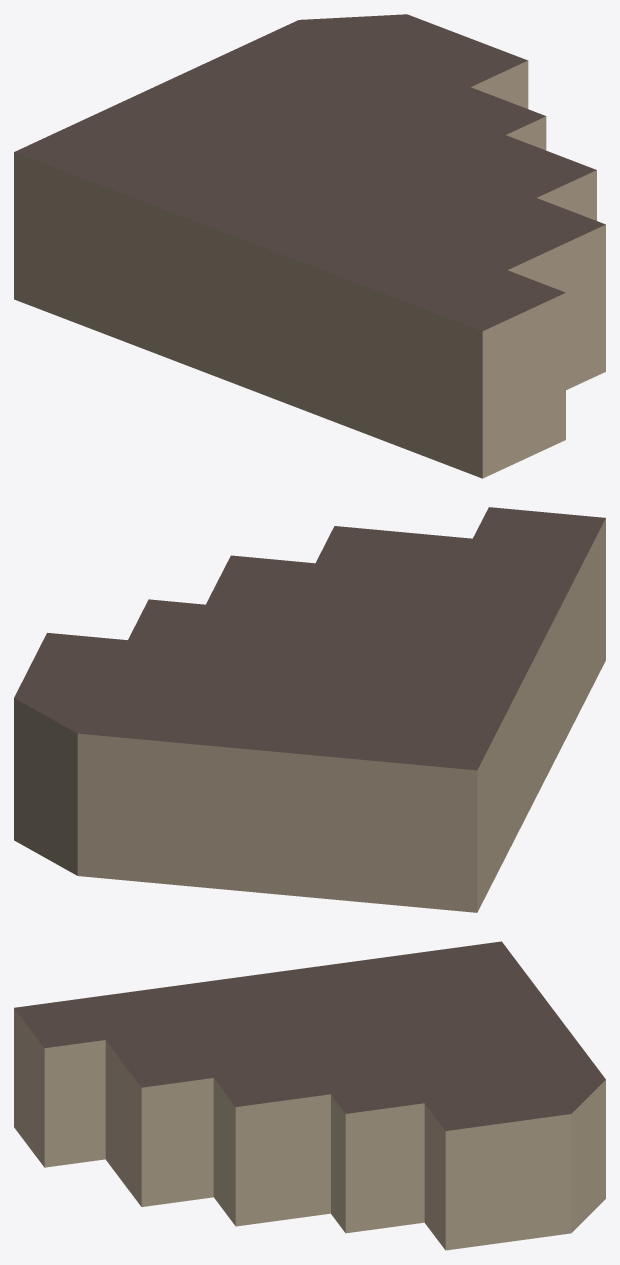
3 views of the same model, one above another, from view 1: azimuth 30°, elevation 25°; view 2: azimuth 150°, elevation 25°; view 3: azimuth 270°, elevation 25° (orthographic). The views are drawn at different scales.
Visible parts, largest first — view 1: HP-w859457479; view 2: HP-w859457479; view 3: HP-w859457479.
Part boxes in pixels (x1,y1,x2,y2): HP-w859457479: (14,14,605,478); HP-w859457479: (14,507,605,912); HP-w859457479: (14,941,605,1250).
Bounding box in the file's own units: 30.66 × 9 × 40.44.
